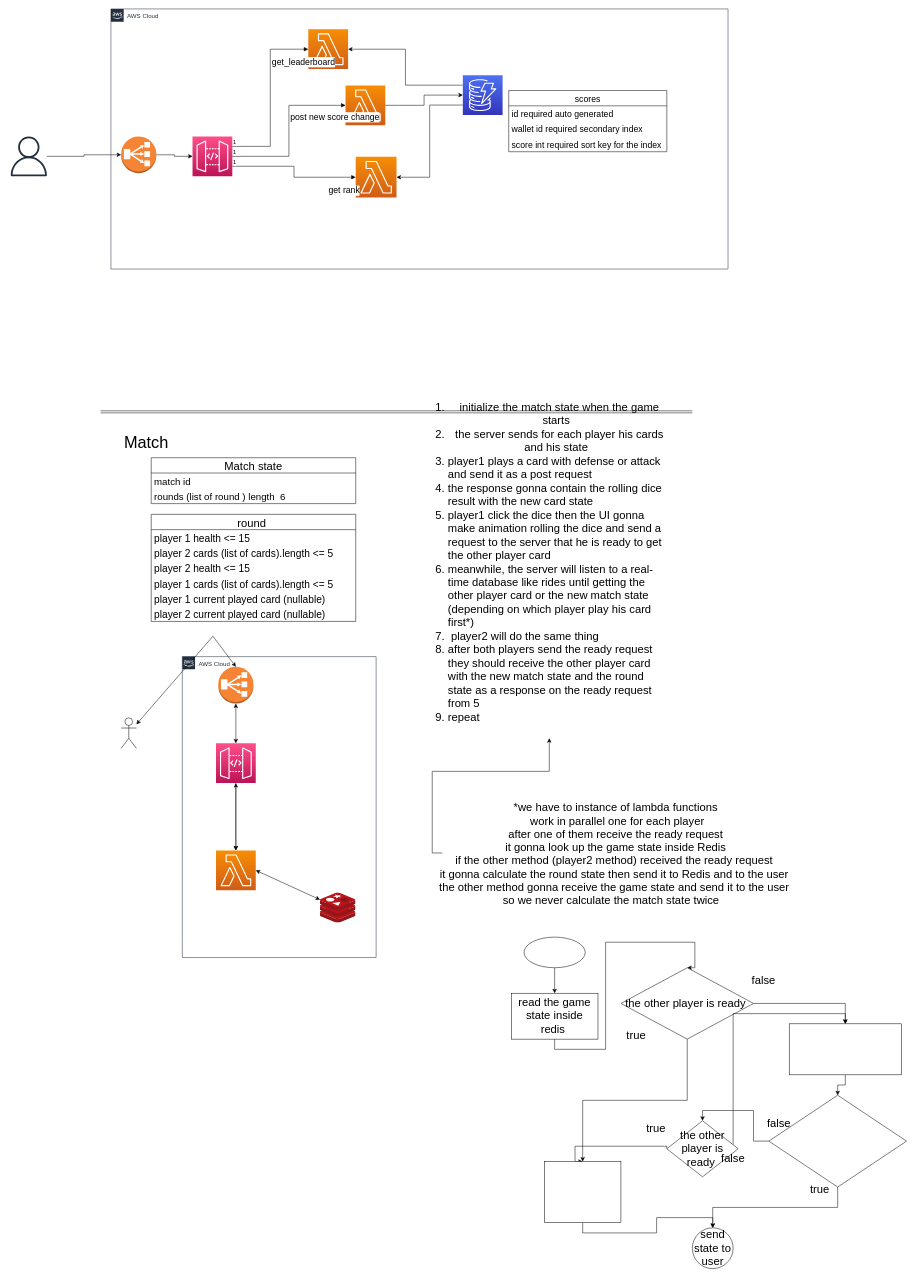
The diagram is 915 pixels wide and 1278 high, and some of its shapes have lost their labels. The centre of each missing label's shape, as x and y in pixels:
"calculate the game state and update in redis" goes at [582,1192].
"mark the player in redis as ready & listen to redis match stream" goes at [845,1049].
"player1" goes at [128,732].
"ready request" goes at [554,952].
"receive the game state after calculation" goes at [837,1141].
